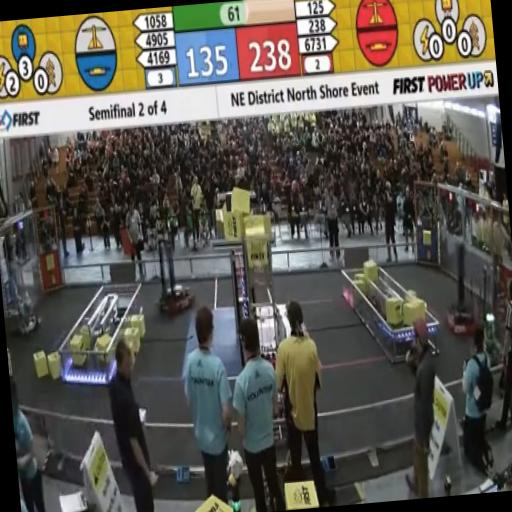robot: (236, 226, 292, 424), (0, 230, 47, 344), (465, 263, 512, 377), (438, 236, 485, 342), (152, 234, 200, 320)
